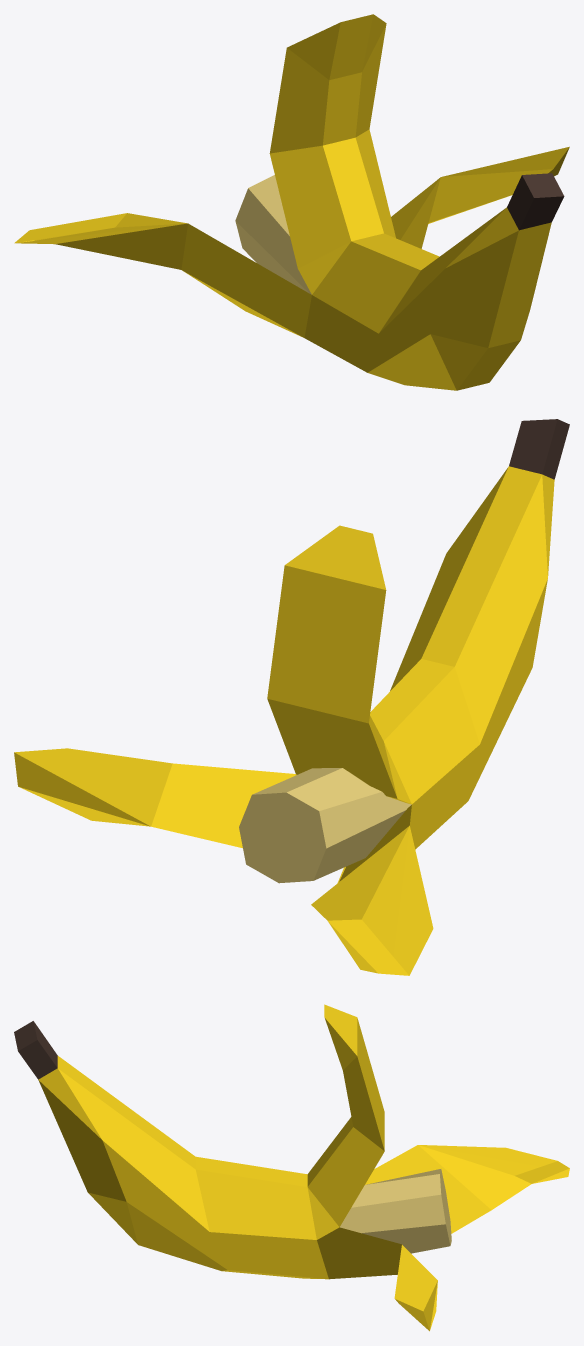
File: Банан(половина).fbx
3 renders of one model, top to bottom at view 1: azimuth 30°, elevation 25°; view 2: azimuth 150°, elevation 25°; view 3: azimuth 270°, elevation 25°, orthographic. The views are drawn at different scales.
Visible parts, largest first — view 1: Cube.001, Куб; view 2: Cube.001, Куб; view 3: Cube.001, Куб.
Boxes of the visible parts, x1=… form: Cube.001: x1=14, y1=14, x2=569, y2=390; Куб: x1=235, y1=175, x2=311, y2=294; Cube.001: x1=14, y1=419, x2=569, y2=975; Куб: x1=239, y1=768, x2=411, y2=883; Cube.001: x1=14, y1=1004, x2=569, y2=1331; Куб: x1=340, y1=1169, x2=451, y2=1253.
Bounding box in the file's own units: 324 × 214 × 412.
